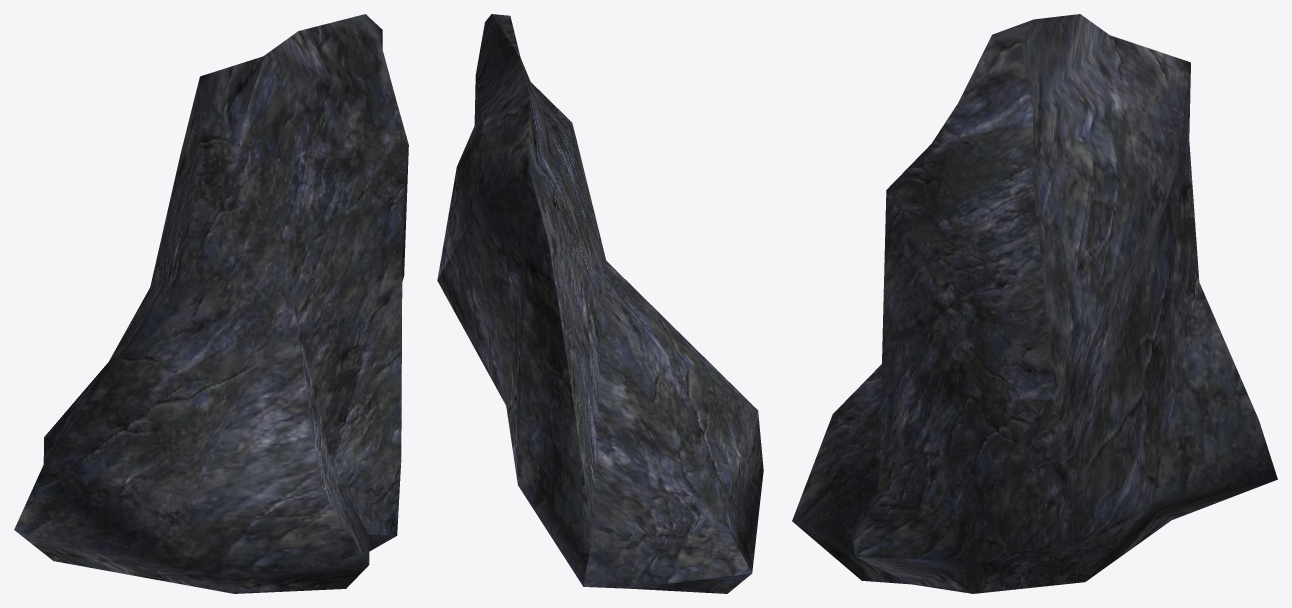
Rendered from pir_m_prp_vol_rock_d.fbx.
3 views of the same model, side by side, from view 1: azimuth 30°, elevation 25°; view 2: azimuth 150°, elevation 25°; view 3: azimuth 270°, elevation 25° (orthographic). The views are drawn at different scales.
Parts seen in each view (by area): view 1: lod_high; view 2: lod_high; view 3: lod_high.
Part boxes in pixels (x1,y1,x2,y2): lod_high: (14, 14, 408, 593); lod_high: (437, 14, 763, 593); lod_high: (792, 14, 1277, 593).
Size of the model in its own units: 3113 by 4204 by 2991.
1 material, 1 textured.
